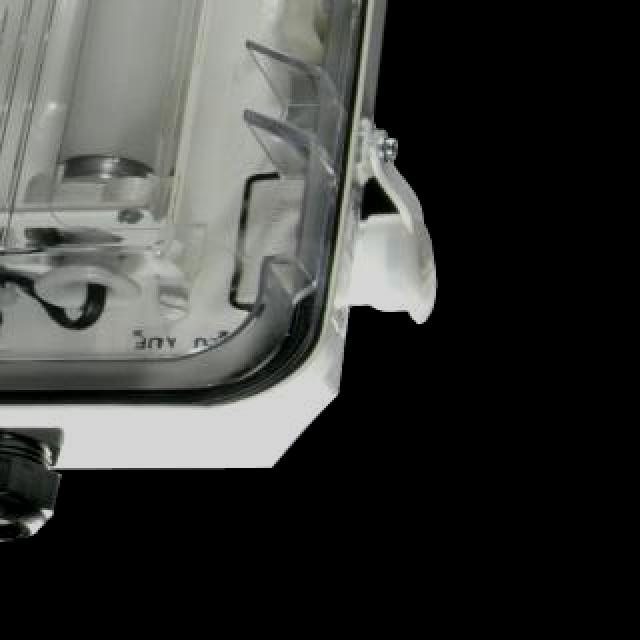fluorescent tube: (12, 0, 446, 316), (0, 0, 84, 256)
